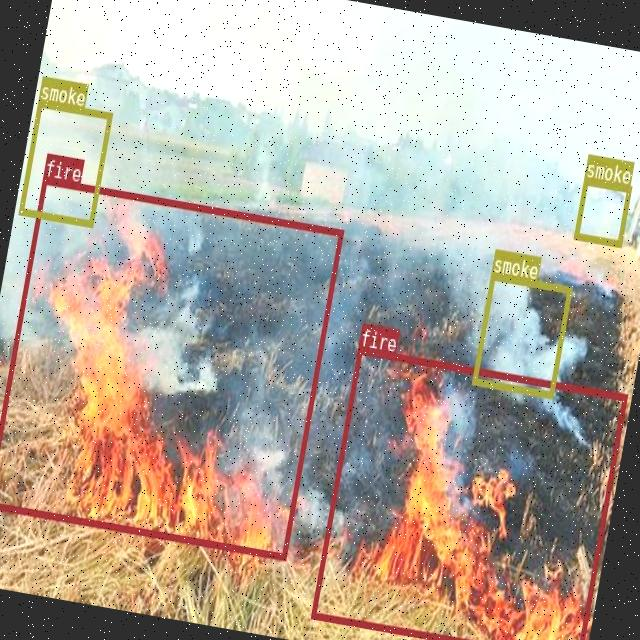fire: (0, 175, 343, 558), (309, 346, 627, 640)
smoke: (470, 270, 570, 396), (18, 99, 112, 225), (572, 178, 630, 245)
